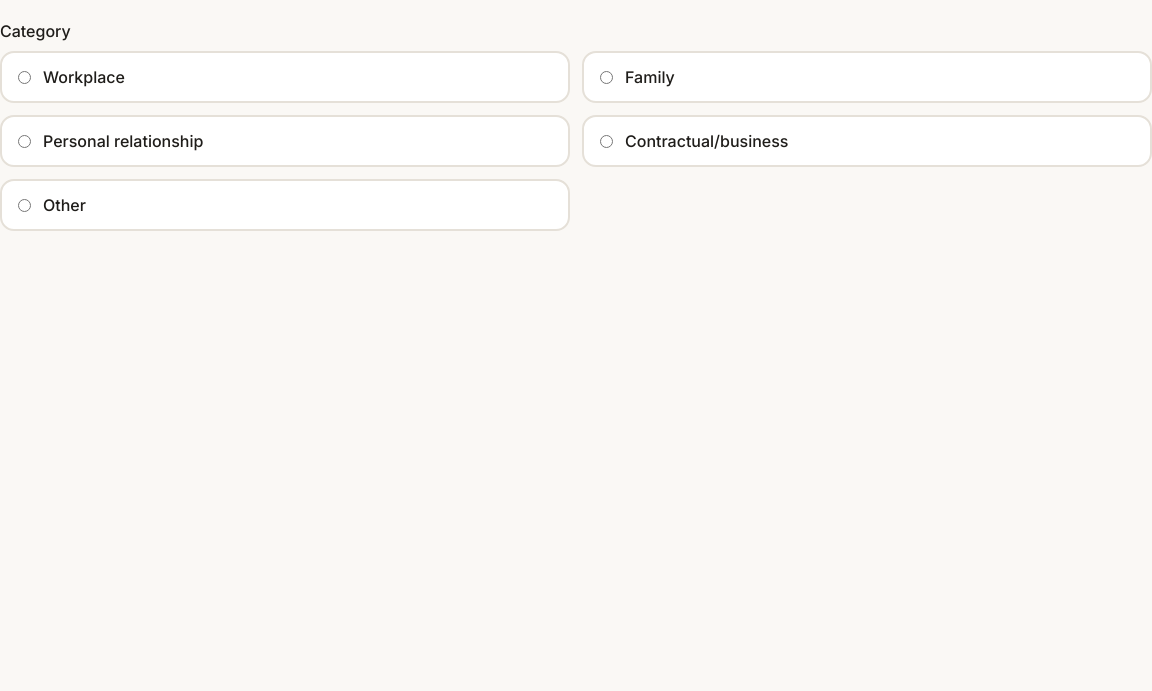
AC6: Submit calls mutation and routes to invite screen › displays error message when mutation fails
Click the radio button labelled "Workplace": coordinates (24, 77) [18,70,31,84]
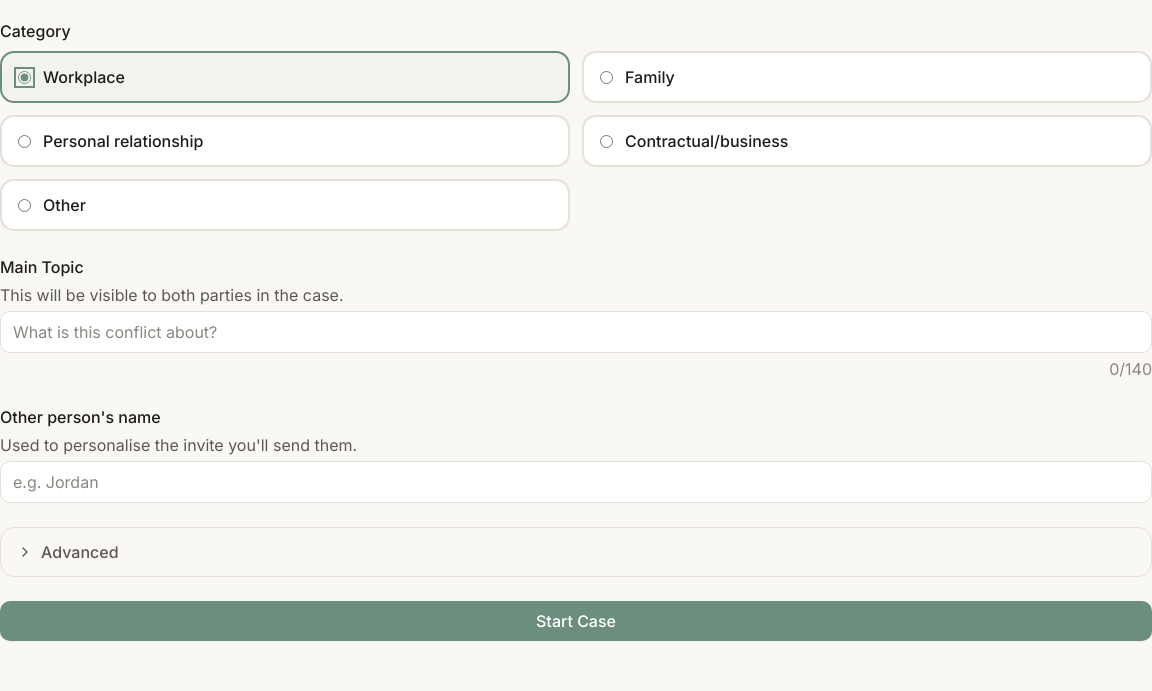
In the field labelled "Main Topic": coordinates (576, 332) [0,311,1151,353], type "Disagreement about project scope"
(page scrolled)
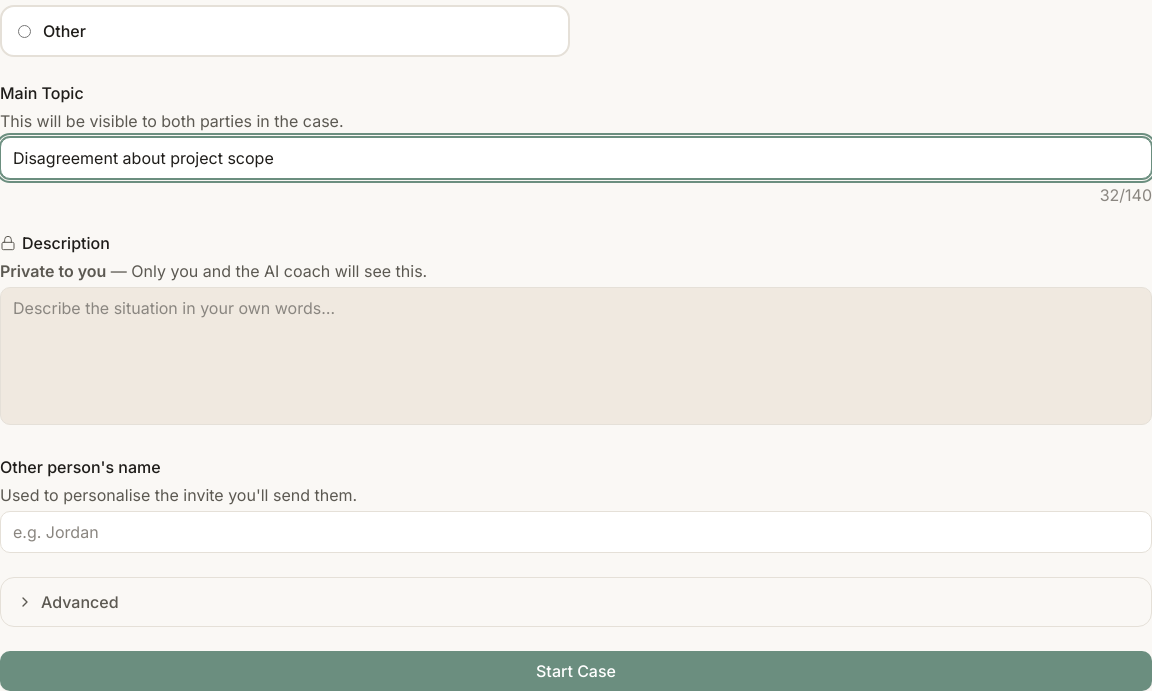
Click the button "Start Case": coordinates (576, 671) [0,651,1151,690]
(page scrolled)
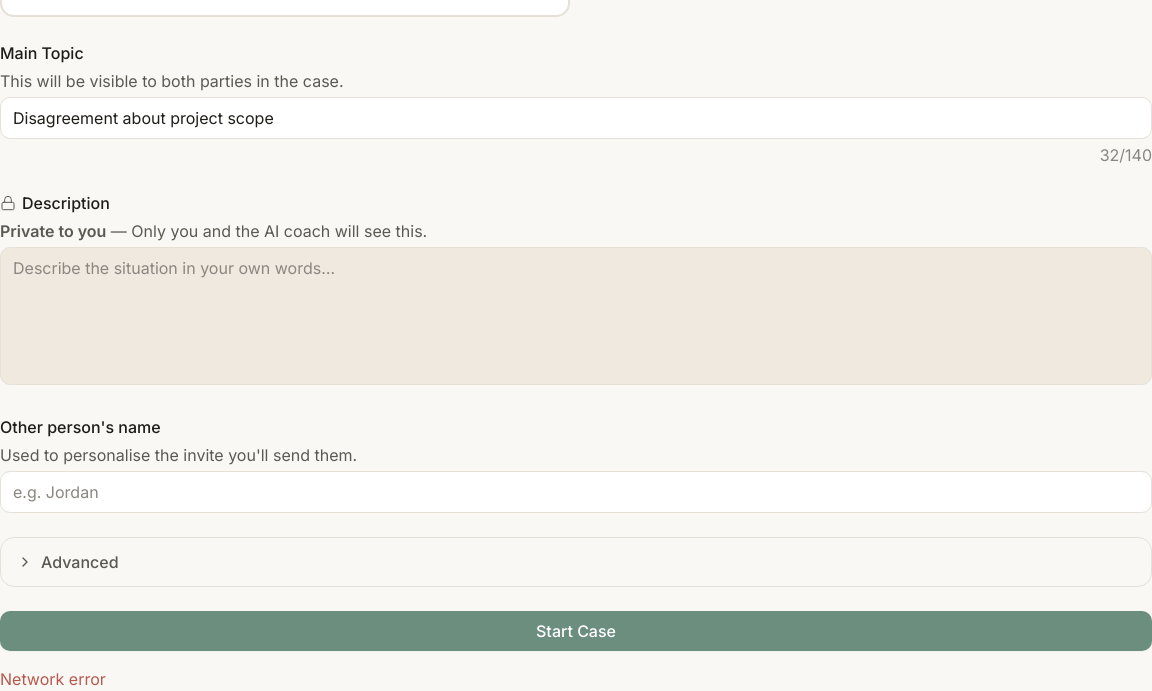
Now the message reads "Network error", box [0,669,106,689]
